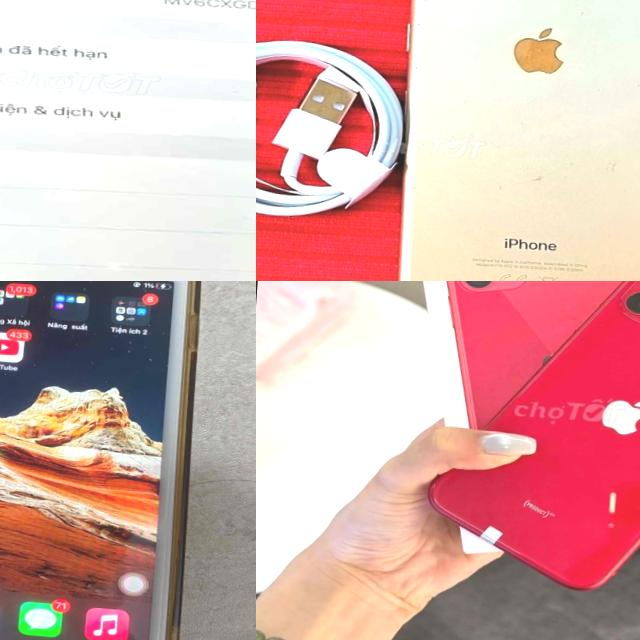scratch: (574, 151, 640, 217), (403, 0, 428, 79), (487, 162, 555, 190), (406, 168, 418, 198)
